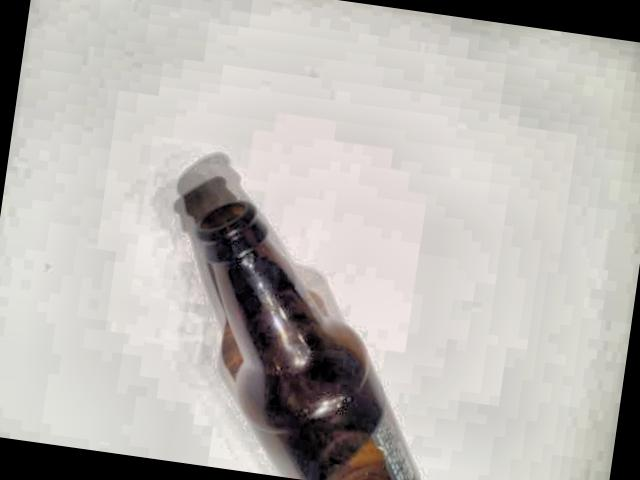Bottles: (154, 180, 484, 480)
